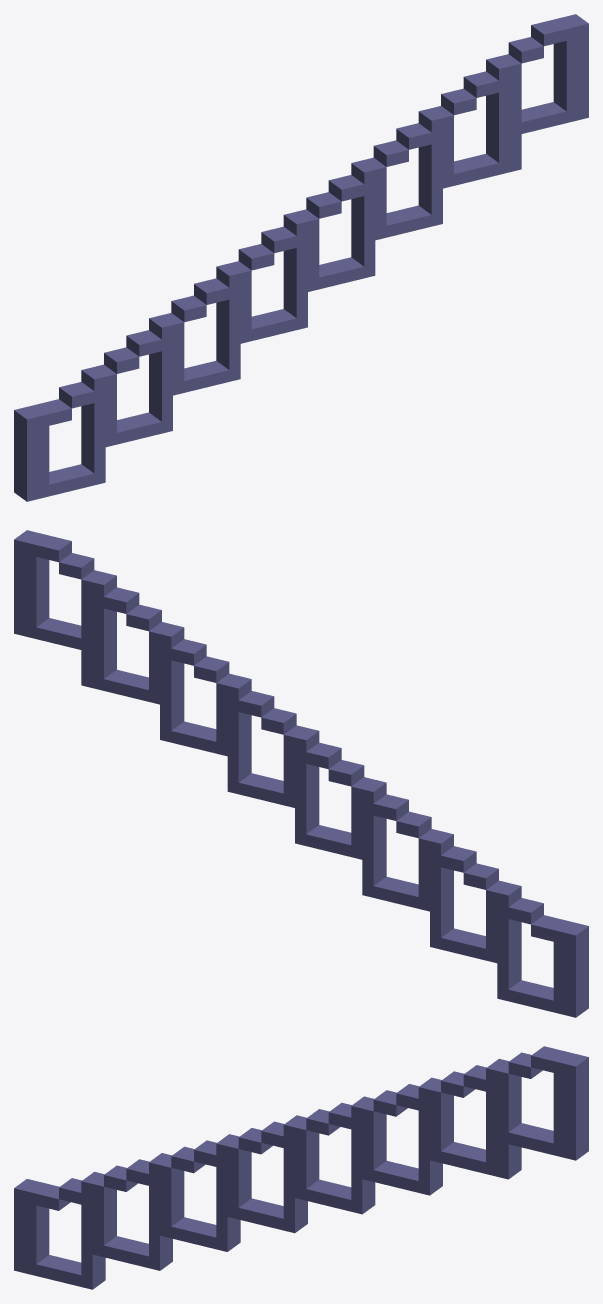
Rendered from StairsHandrail.obj.
The picture shows the model from 3 angles, top to bottom: view 1: azimuth 30°, elevation 25°; view 2: azimuth 150°, elevation 25°; view 3: azimuth 330°, elevation 25°; orthographic projection.
Size of the model in its own units: 50 by 29 by 2.
Materials: 1 (1 with a texture image).
